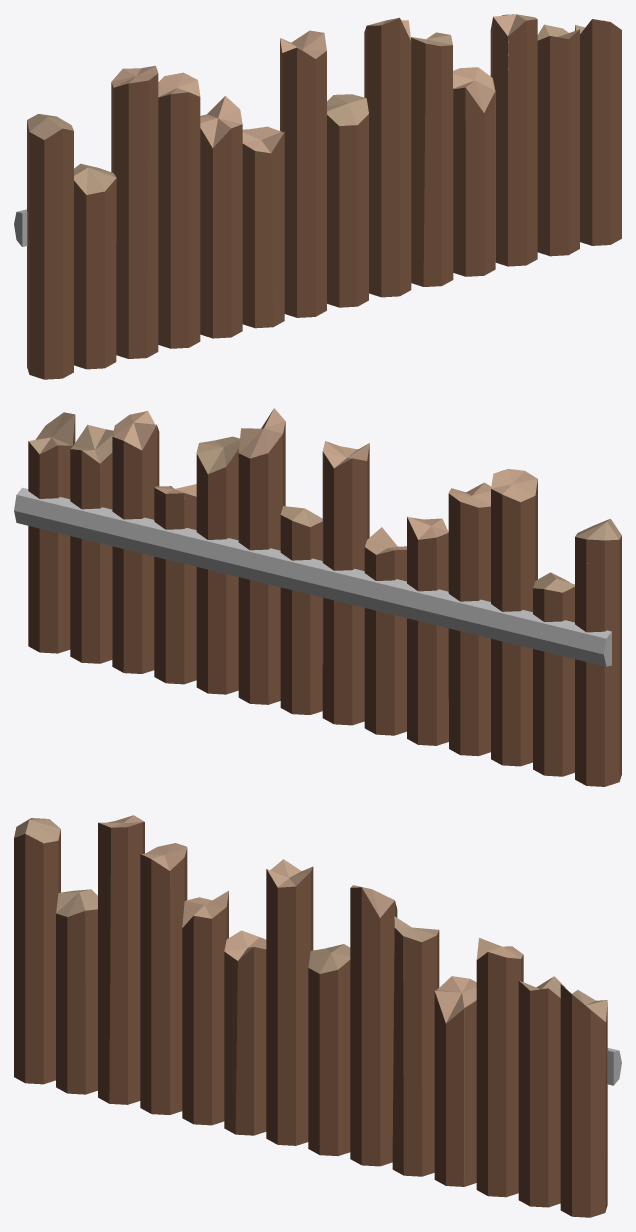
The model's file is Defense_WallModel_D4.fbx.
3 renders of one model, top to bottom at view 1: azimuth 30°, elevation 25°; view 2: azimuth 150°, elevation 25°; view 3: azimuth 330°, elevation 25°, orthographic.
Visible parts, largest first — view 1: Cylinder; view 2: Cylinder, Cube; view 3: Cylinder.
Part boxes in pixels (x1=…): Cylinder: x1=27, y1=14, x2=621, y2=379; Cylinder: x1=28, y1=408, x2=621, y2=786; Cube: x1=14, y1=487, x2=611, y2=666; Cylinder: x1=14, y1=815, x2=607, y2=1217.
Bounding box in the file's own units: 800 × 360 × 65.11.
1 material, 1 textured.
